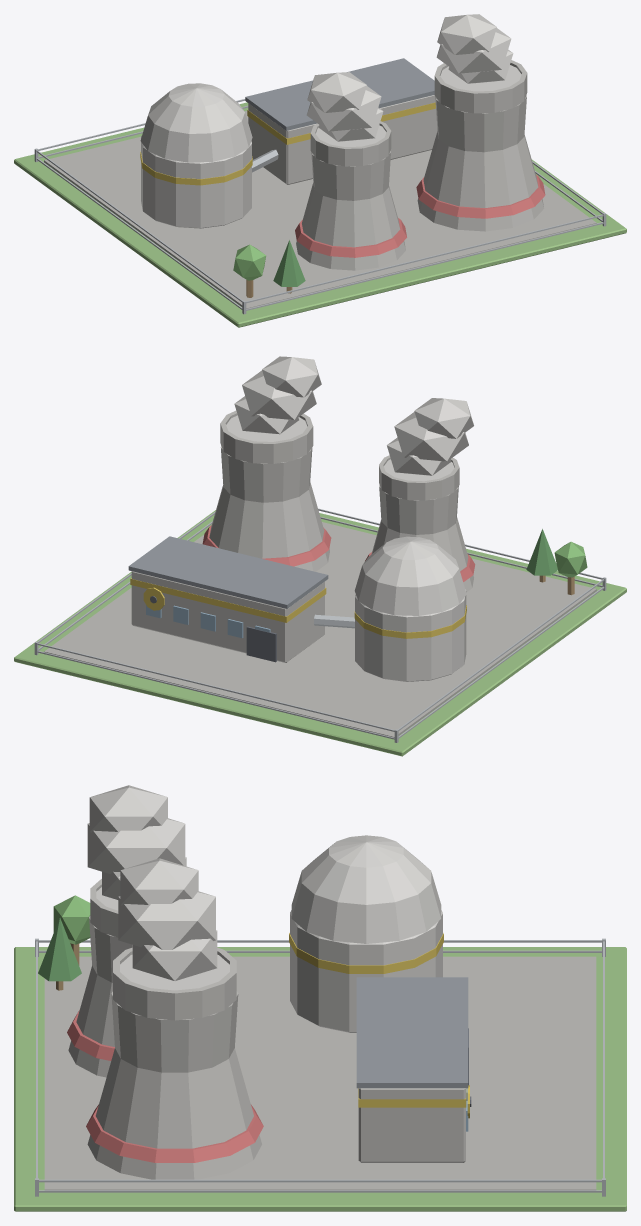
File: energia__usina_nuclear.glb
3 renders of one model, top to bottom at view 1: azimuth 30°, elevation 25°; view 2: azimuth 150°, elevation 25°; view 3: azimuth 270°, elevation 25°, orthographic. The views are drawn at different scales.
Parts seen in each view (by area): view 1: energia__usina_nuclear; view 2: energia__usina_nuclear; view 3: energia__usina_nuclear.
Boxes of the visible parts, box(x1,y1,x2,y2) form: energia__usina_nuclear: box(14, 14, 626, 327); energia__usina_nuclear: box(14, 356, 626, 756); energia__usina_nuclear: box(14, 785, 626, 1211).
Size of the model in its own units: 8 by 4.04 by 8.
